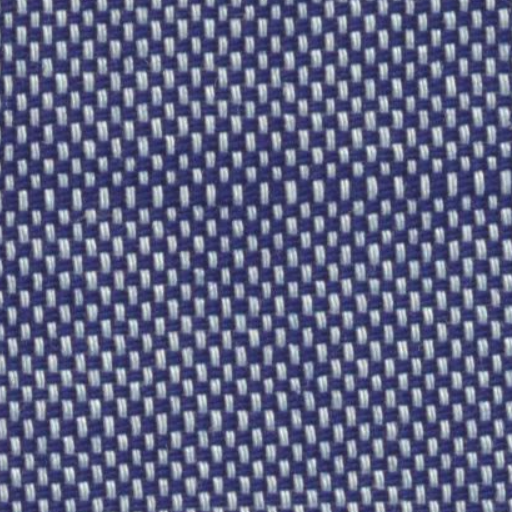TuoSha: (12, 148, 501, 234)
